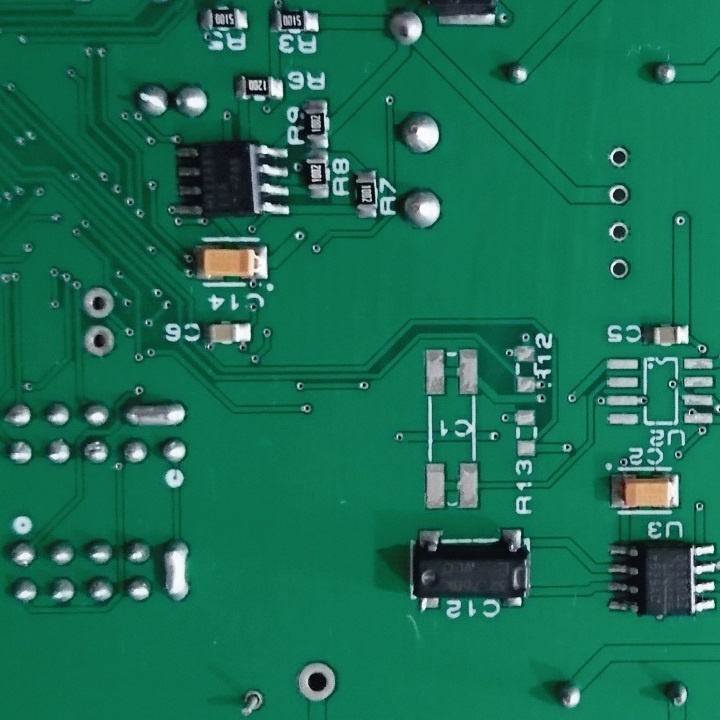F: (293, 658, 340, 700), (84, 320, 115, 362), (82, 284, 116, 320), (236, 680, 266, 717), (607, 181, 631, 212), (607, 256, 630, 284), (609, 218, 630, 247), (607, 143, 631, 168)
P: (160, 535, 194, 606), (119, 400, 190, 430)
